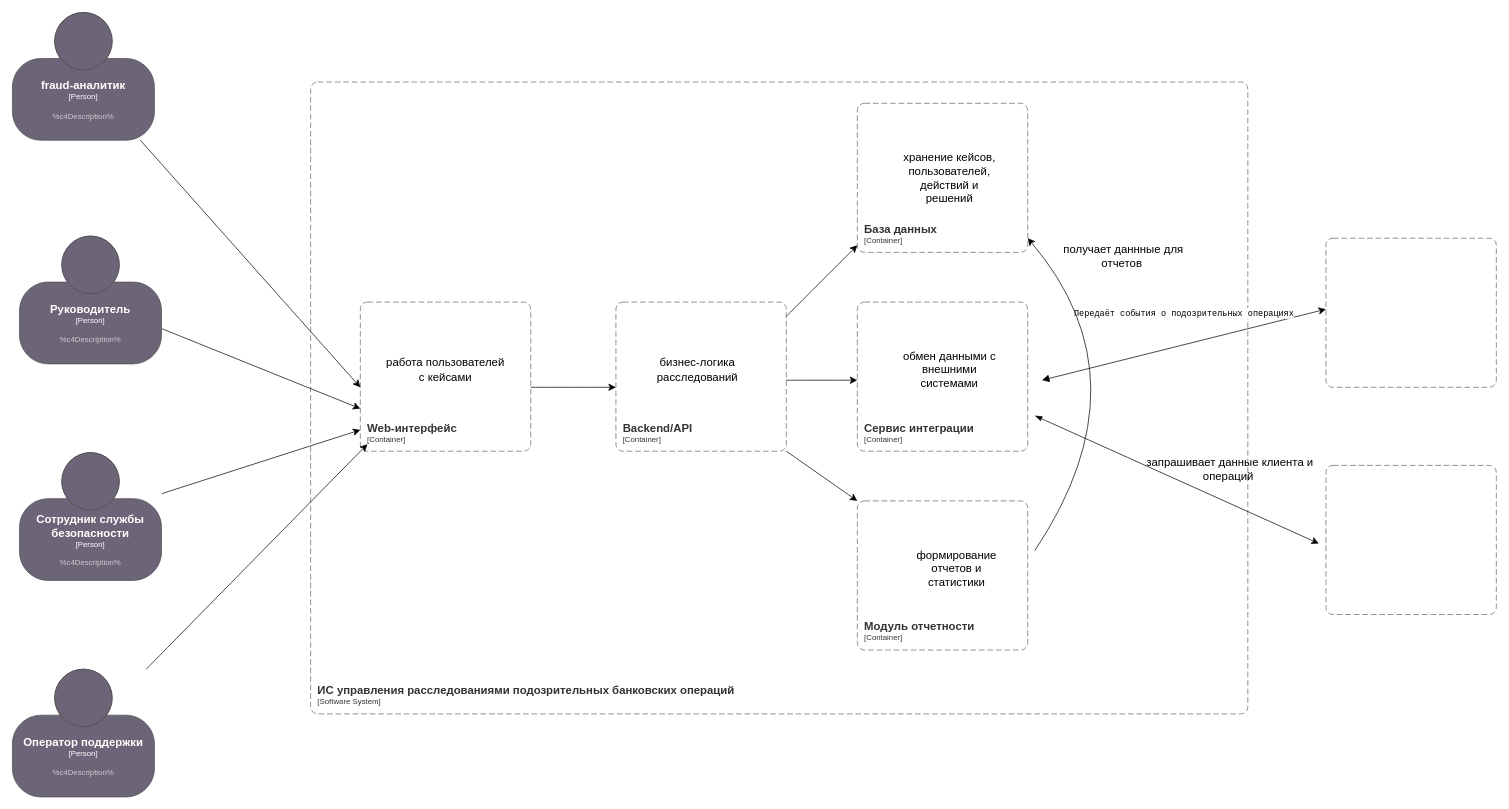
Some shapes in this 1509 by 809 pixel diagram are drawn without their labels. The shapes that lost their labels are listed below. From the top down, each one's centre as x and y in pixels, then its label:
point (1410, 312): Antifraud-система [Software System]
point (1410, 540): Банковская ИС [Software System]
